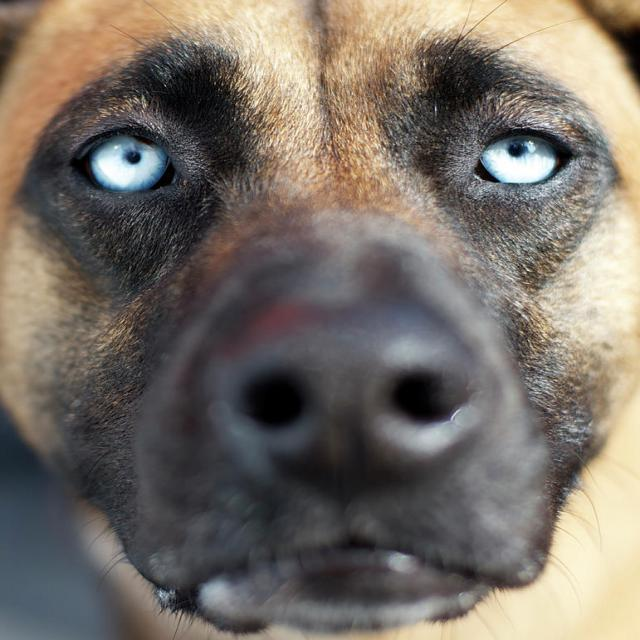eye: (70, 123, 192, 205), (466, 122, 585, 193)
